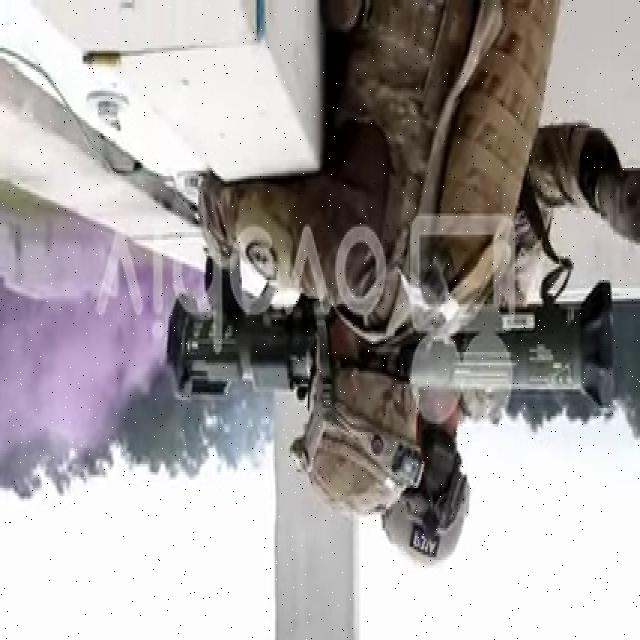bazooka: (157, 272, 619, 424)
